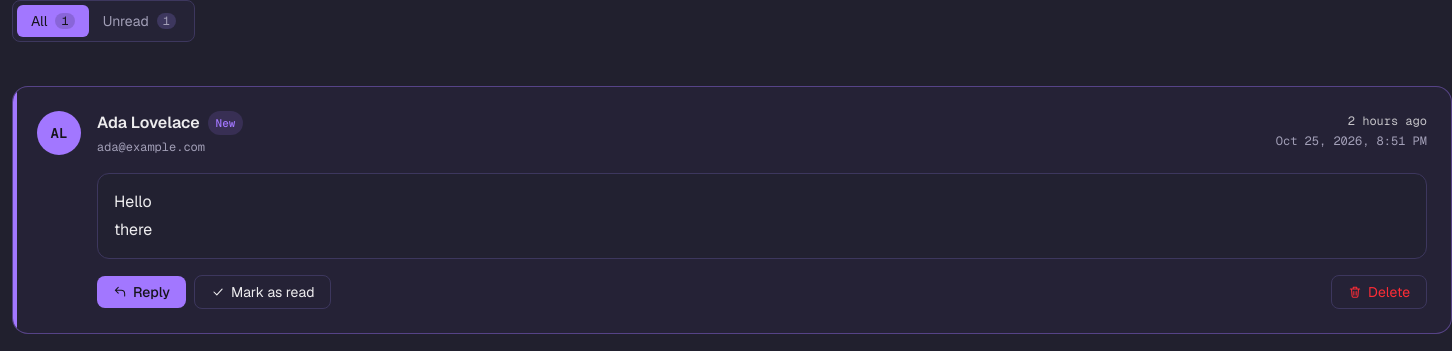
Test case: MessageList › shows the server's refusal
Click the button "Mark as read" at x=263, y=292, box x1=194 y1=275 x2=332 y2=309
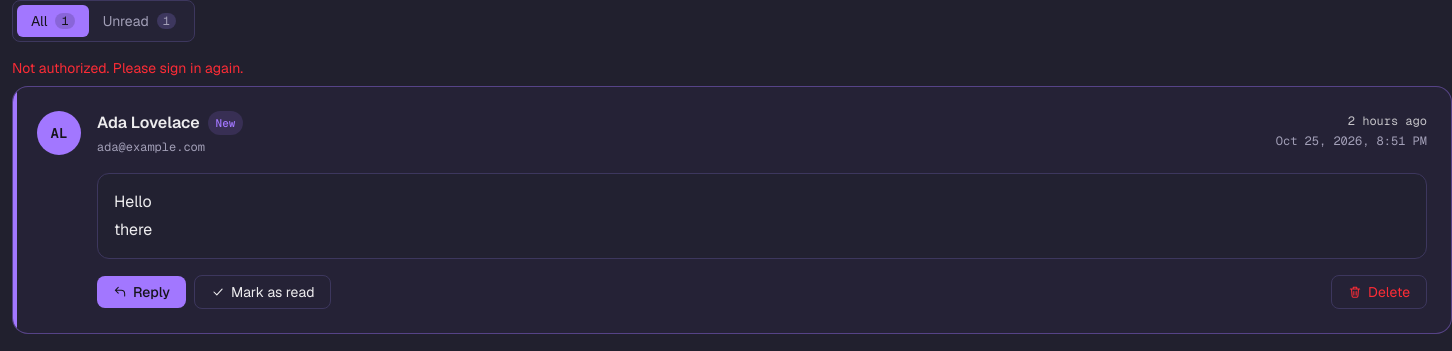
Expected: the message shows "Not authorized", x1=12 y1=59 x2=243 y2=77
